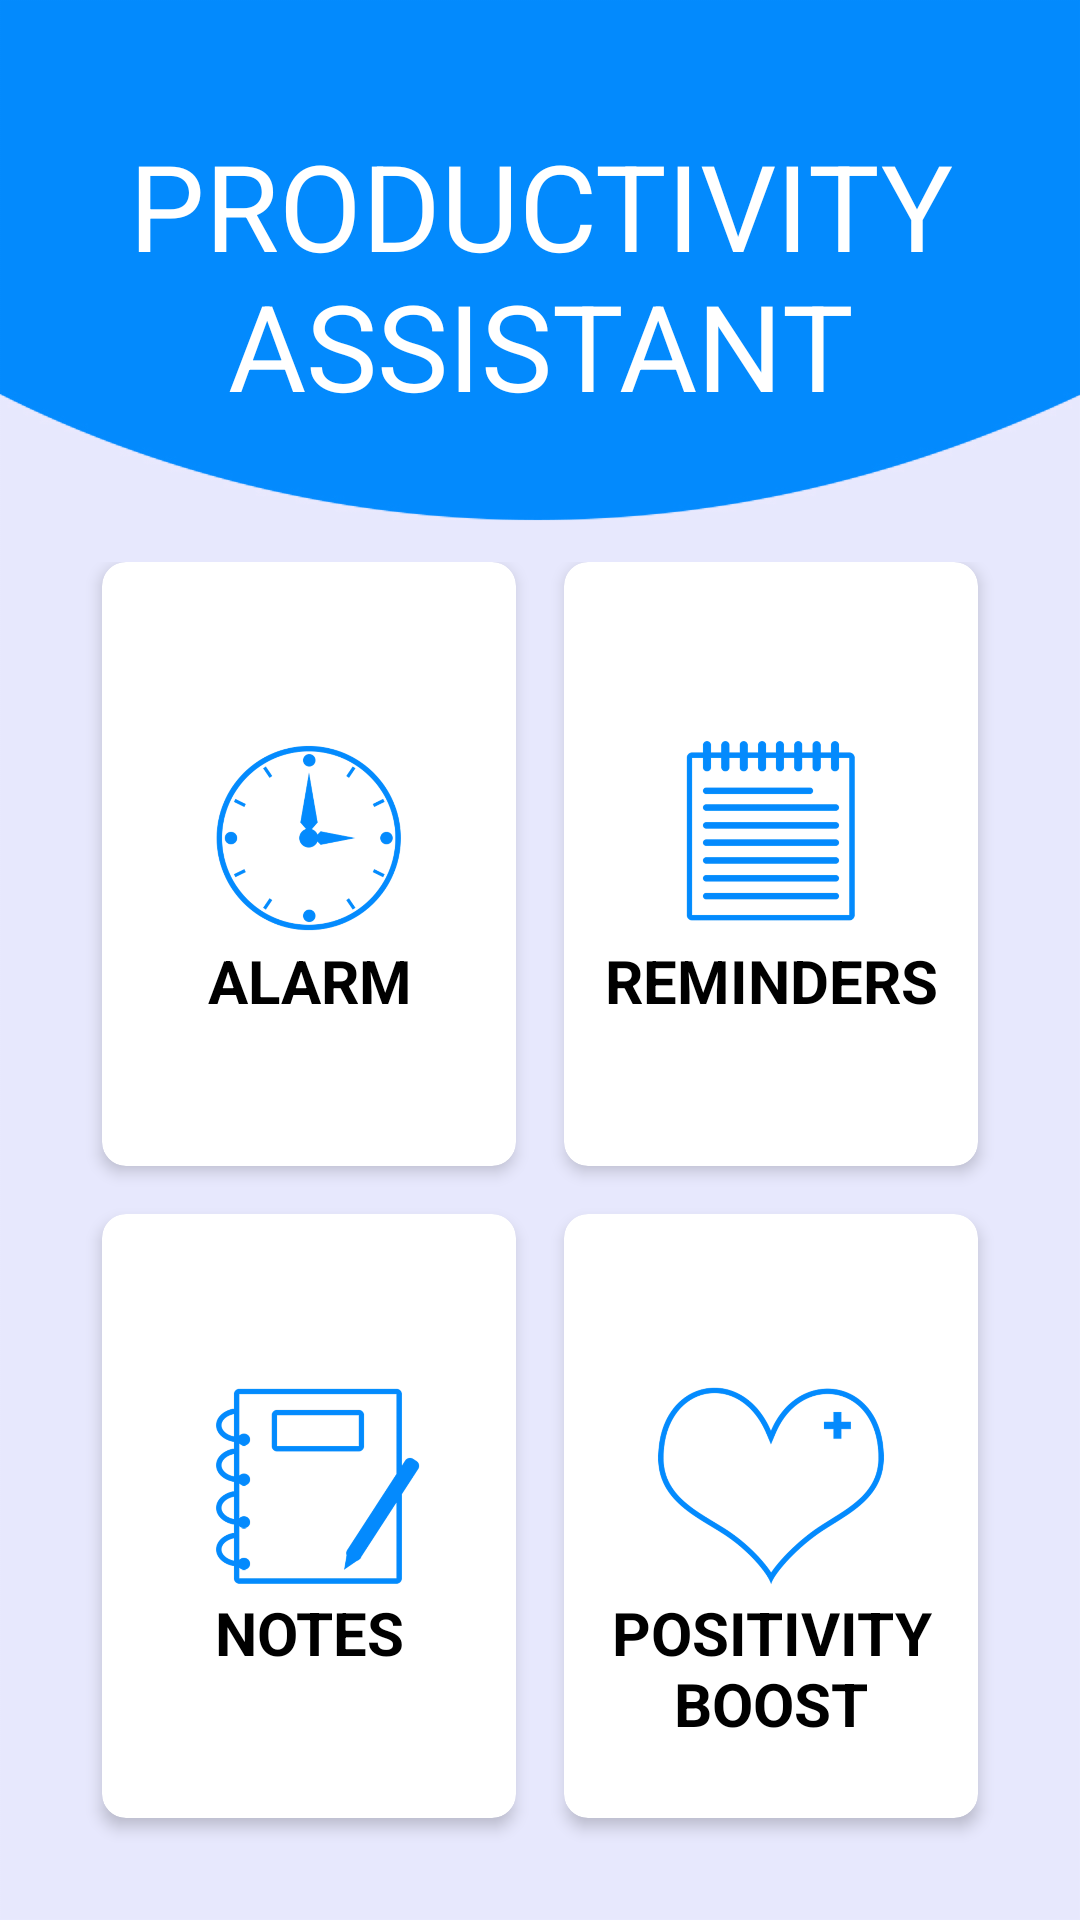

Where icons sit on this 1080 × 1920 app screen, as (x1, y1, x2, y2):
memo: (646, 741, 900, 1004)
